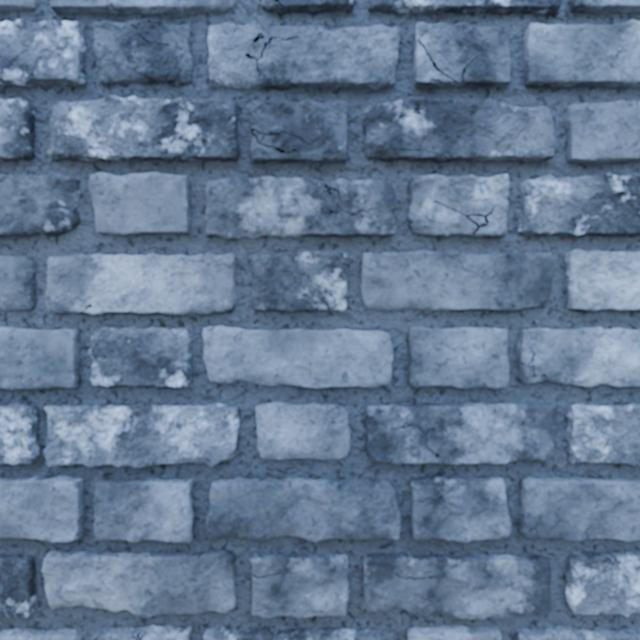crack: (42, 549, 236, 617), (207, 22, 400, 90), (362, 96, 555, 162), (47, 95, 239, 161), (362, 552, 551, 619), (44, 403, 239, 467), (206, 477, 400, 541), (205, 177, 396, 240), (45, 253, 236, 315), (203, 326, 393, 388), (360, 251, 553, 312), (365, 403, 557, 464), (523, 20, 639, 88), (518, 476, 639, 541), (518, 173, 639, 236), (517, 327, 639, 387), (410, 475, 511, 542), (93, 19, 193, 86), (250, 552, 350, 618), (94, 477, 193, 542), (407, 174, 509, 237), (89, 172, 190, 235), (89, 326, 193, 387), (413, 22, 510, 87), (407, 327, 509, 388), (250, 100, 347, 164), (252, 250, 349, 311), (0, 18, 85, 87), (0, 475, 84, 542), (256, 402, 350, 459), (0, 327, 80, 389), (0, 174, 80, 236), (564, 551, 639, 616), (564, 101, 639, 164), (565, 403, 639, 465), (565, 249, 639, 310), (368, 0, 561, 16), (50, 0, 239, 15), (0, 403, 40, 464), (203, 627, 393, 639), (0, 554, 35, 618), (0, 98, 35, 160), (0, 256, 37, 311), (514, 626, 639, 639), (91, 625, 192, 639), (407, 625, 501, 639), (261, 0, 354, 14), (570, 0, 639, 14), (0, 628, 83, 639), (0, 0, 39, 11)
